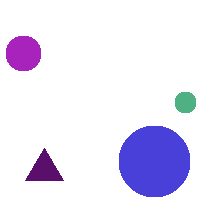circle: (119, 126, 189, 196), (6, 36, 40, 70), (175, 92, 195, 112)
triangle: (25, 148, 63, 180)
